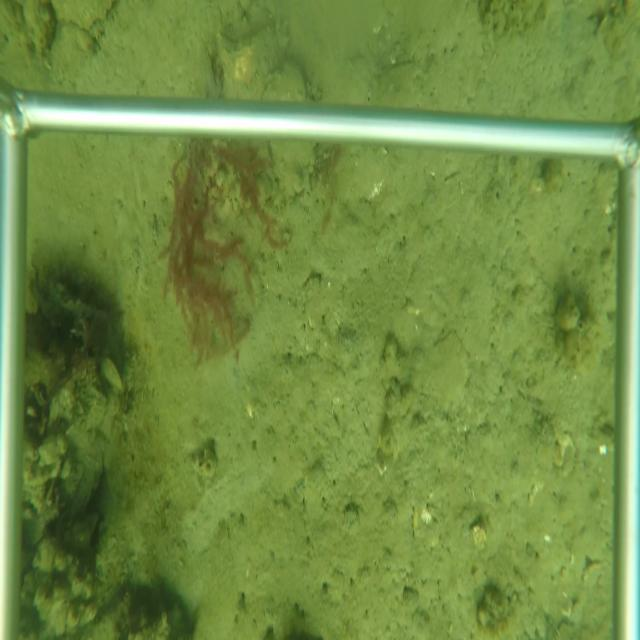Oyster-Indeterminate: (222, 21, 289, 92), (263, 61, 316, 99)
